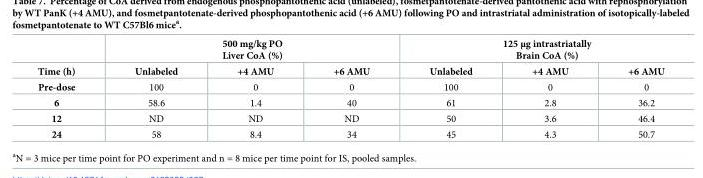table: (37, 36, 663, 139)
table column: (398, 36, 501, 139), (104, 36, 206, 139), (206, 36, 302, 139), (302, 36, 398, 139), (501, 36, 597, 139), (37, 36, 104, 139), (597, 36, 663, 139)
table column header: (37, 36, 663, 78)
table row: (37, 36, 663, 63), (37, 78, 663, 94), (37, 94, 663, 110), (37, 110, 663, 126), (37, 63, 663, 78), (37, 126, 663, 139)
table spanning cell: (104, 36, 398, 63), (398, 36, 663, 63), (37, 36, 104, 78)
